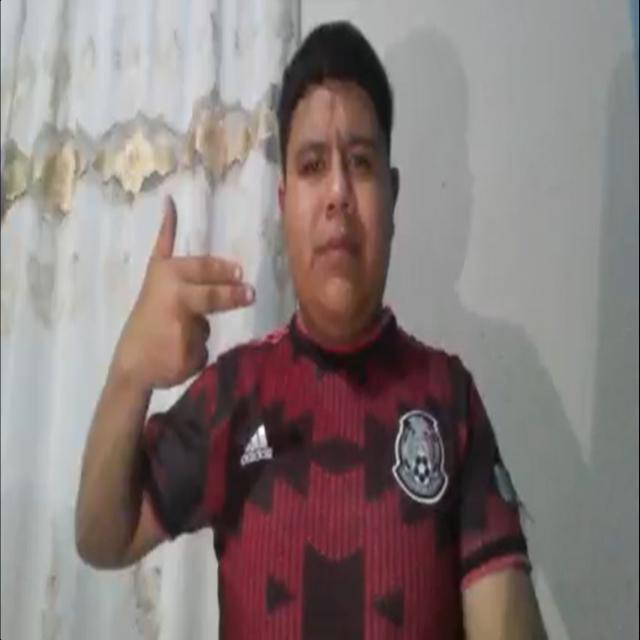H: (96, 198, 266, 394)
